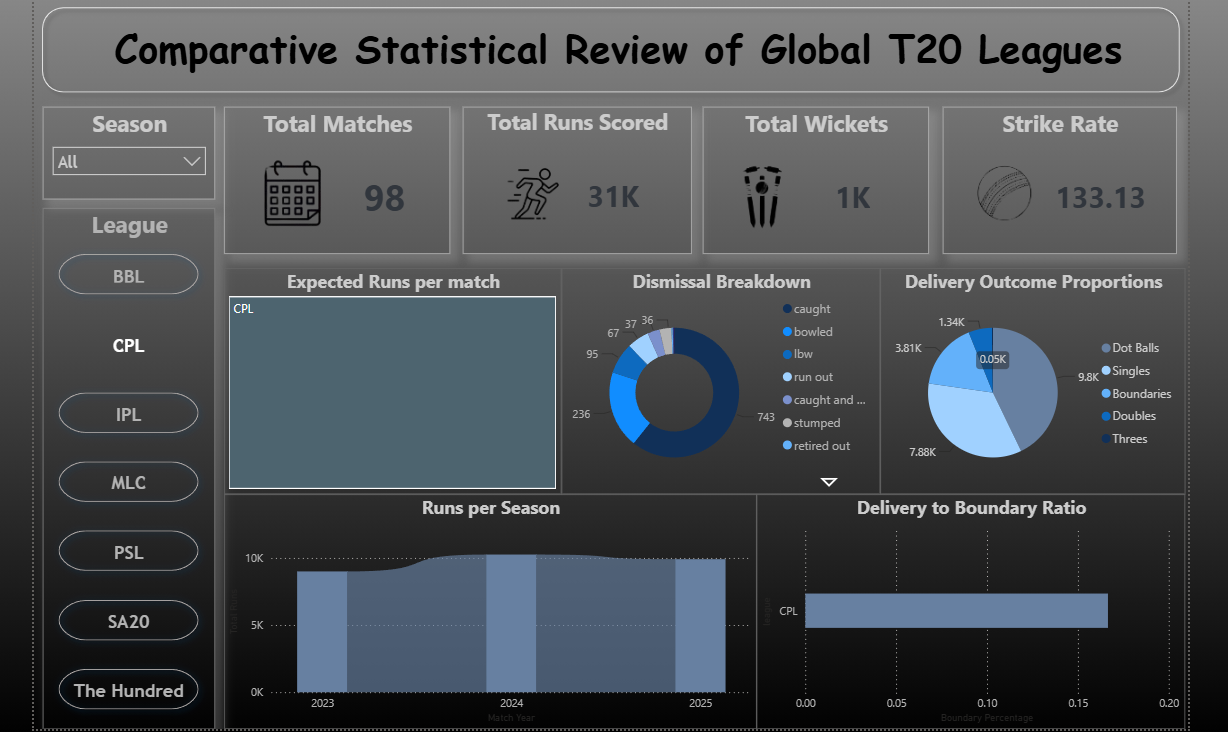

Layout of this report page (visuals, bound fields, positions):
{"tool":"powerbi","page":{"name":"Page 1","canvas":[1285,820],"ordinal":0},"visuals":[{"type":"cardVisual","title":"Total Matches","fields":{"Data":["public matches.Total Matches"]},"box":[211.7,126.7,252.1,164.3],"z":0},{"type":"advancedSlicerVisual","title":"League","fields":{"Values":["public matches.league"]},"box":[9.7,239.5,192.2,580.7],"z":1000},{"type":"cardVisual","title":"Total Wickets","fields":{"Data":["public deliveries.Wickets Taken"]},"box":[745.1,126.7,252.1,164.3],"z":2000},{"type":"slicer","title":"Season","fields":{"Values":["public matches.Match Year"]},"box":[9.7,126.7,192.2,103.1],"z":3000},{"type":"cardVisual","title":"Total Runs Scored","fields":{"Data":["Sum(public deliveries.runs_total)"]},"box":[477.7,126.7,254.9,164.3],"z":4000},{"type":"treemap","title":"Expected Runs per match","fields":{"Group":["public matches.league"],"Values":["public deliveries.Average Runs per match"]},"box":[211.7,306.4,376,252.1],"z":5000},{"type":"ribbonChart","title":"Runs per Season","fields":{"Category":["public matches.Match Year"],"Y":["public deliveries.Total Runs"]},"box":[211.7,558.5,593.3,261.8],"z":6000},{"type":"donutChart","title":"Dismissal Breakdown","fields":{"Y":["CountNonNull(public deliveries.dismissal_kind)"],"Category":["public deliveries.dismissal_kind"]},"box":[587.7,306.4,355.1,252.1],"z":7000},{"type":"pieChart","title":"Delivery Outcome Proportions","fields":{"Category":["public deliveries.Run_category"],"Y":["CountNonNull(public deliveries.Run_category)"]},"box":[942.8,306.4,339.8,252.1],"z":8000},{"type":"clusteredBarChart","title":"Delivery to Boundary Ratio","fields":{"Y":["public matches.Boundary Percentage"],"Category":["public matches.league"]},"box":[805,558.5,477.7,261.8],"z":9000},{"type":"shape","box":[0,7,1285.4,112.8],"z":10000},{"type":"textbox","box":[20.9,26.5,1242.3,85],"z":11000},{"type":"cardVisual","title":"Strike Rate","fields":{"Data":["public deliveries.Strike Rate"]},"box":[1012.5,126.7,260.4,164.3],"z":12000}]}

Visuals, with their boxes on the page's 1285x820 design canvas (x1, y1, x2, y2). These are canvas units, not pixel positions in the 1228x732 screenshot, which may show the page scaled, cropped or inside an application window:
"Total Matches" cardVisual: region(212, 127, 464, 291)
"League" advancedSlicerVisual: region(10, 240, 202, 820)
"Total Wickets" cardVisual: region(745, 127, 997, 291)
"Season" slicer: region(10, 127, 202, 230)
"Total Runs Scored" cardVisual: region(478, 127, 733, 291)
"Expected Runs per match" treemap: region(212, 306, 588, 558)
"Runs per Season" ribbonChart: region(212, 558, 805, 820)
"Dismissal Breakdown" donutChart: region(588, 306, 943, 558)
"Delivery Outcome Proportions" pieChart: region(943, 306, 1283, 558)
"Delivery to Boundary Ratio" clusteredBarChart: region(805, 558, 1283, 820)
shape: region(0, 7, 1285, 120)
textbox: region(21, 26, 1263, 112)
"Strike Rate" cardVisual: region(1012, 127, 1273, 291)
